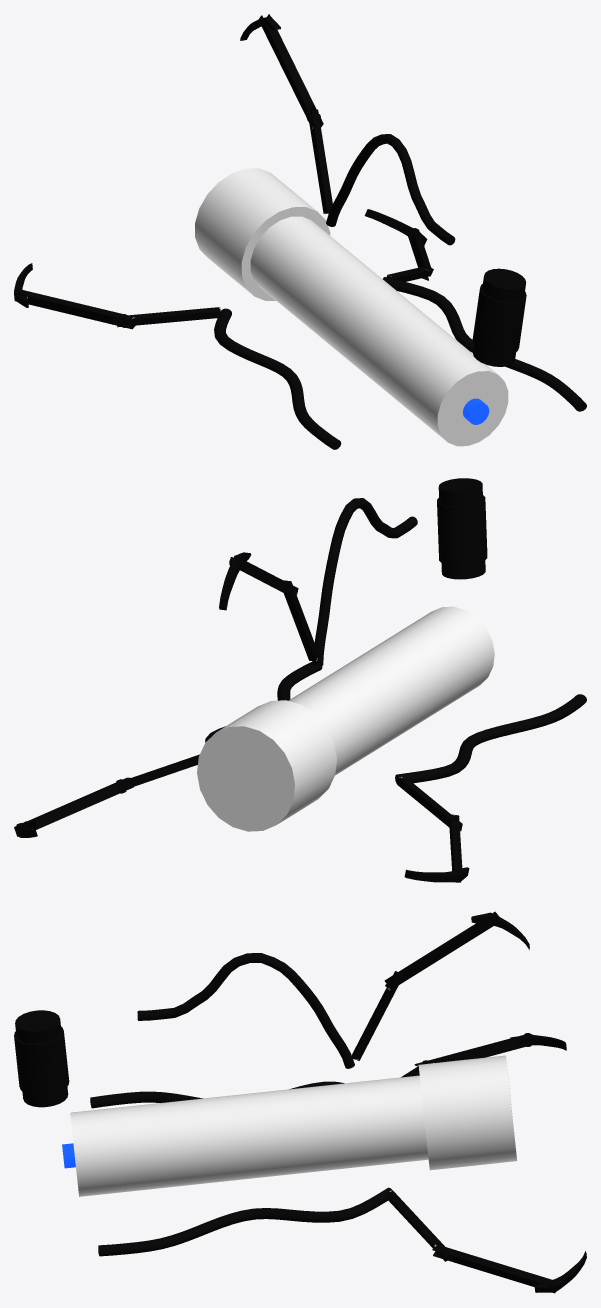
File: pinzas.glb
3 renders of one model, top to bottom at view 1: azimuth 30°, elevation 25°; view 2: azimuth 150°, elevation 25°; view 3: azimuth 270°, elevation 25°, orthographic. The views are drawn at different scales.
Visible parts, largest first — view 1: pinzas_frontales; view 2: pinzas_frontales; view 3: pinzas_frontales.
Part boxes in pixels (left/top/right/bottom): pinzas_frontales: left=14, top=14, right=586, bottom=449; pinzas_frontales: left=14, top=478, right=586, bottom=882; pinzas_frontales: left=14, top=911, right=586, bottom=1293.
Bounding box in the file's own units: 3.5 × 2.33 × 4.14.
Materials: 5 (3 with a texture image).
